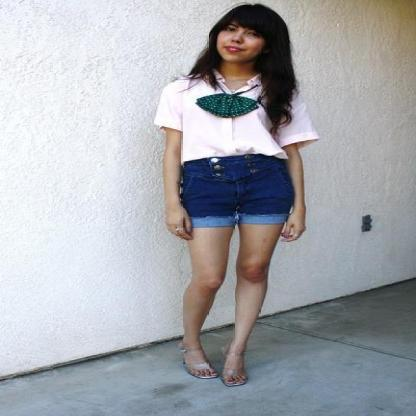shirt: (154, 72, 317, 162)
shoe: (180, 363, 250, 386)
shorts: (177, 154, 294, 228)
